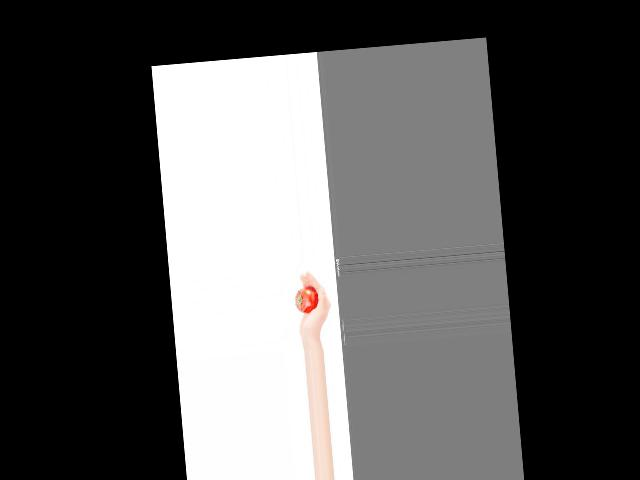tomato: (294, 287, 319, 315)
